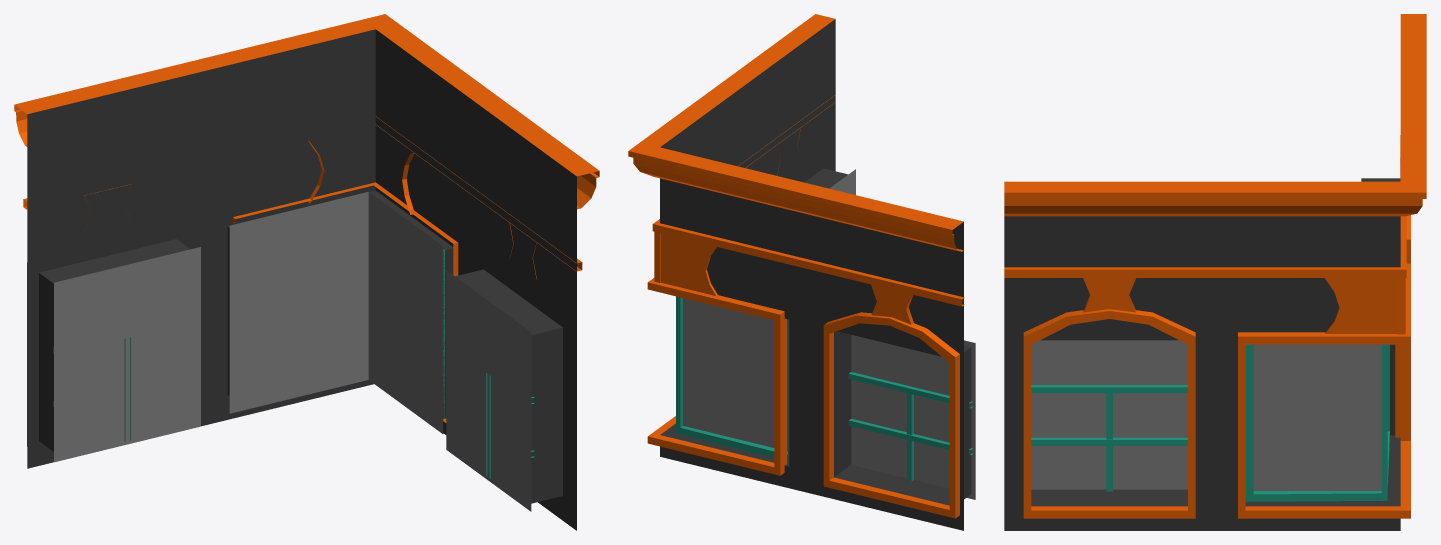
Rendered from SM_M_Corner_Build_01.fbx.
The picture shows the model from 3 angles, left to right: view 1: azimuth 30°, elevation 25°; view 2: azimuth 150°, elevation 25°; view 3: azimuth 270°, elevation 25°; orthographic projection. The views are drawn at different scales.
Parts seen in each view (by area): view 1: SM_M_Corner_Build_01, Box065; view 2: SM_M_Corner_Build_01, Box065, Box073, Box081, Box079; view 3: SM_M_Corner_Build_01, Box065, Box073, Box075, Box070.
Boxes of the visible parts, x1,y1,x2,y2 form: SM_M_Corner_Build_01: (27, 29, 576, 530); Box065: (14, 14, 599, 209); SM_M_Corner_Build_01: (647, 19, 975, 530); Box065: (628, 14, 963, 251); Box073: (652, 94, 964, 306); Box081: (848, 372, 972, 481); Box079: (871, 284, 913, 324); SM_M_Corner_Build_01: (1004, 178, 1410, 530); Box065: (1004, 14, 1426, 216); Box073: (1004, 216, 1406, 277); Box075: (1031, 385, 1187, 491); Box070: (1083, 278, 1135, 312).
Size of the model in its own units: 572 by 521 by 571.
